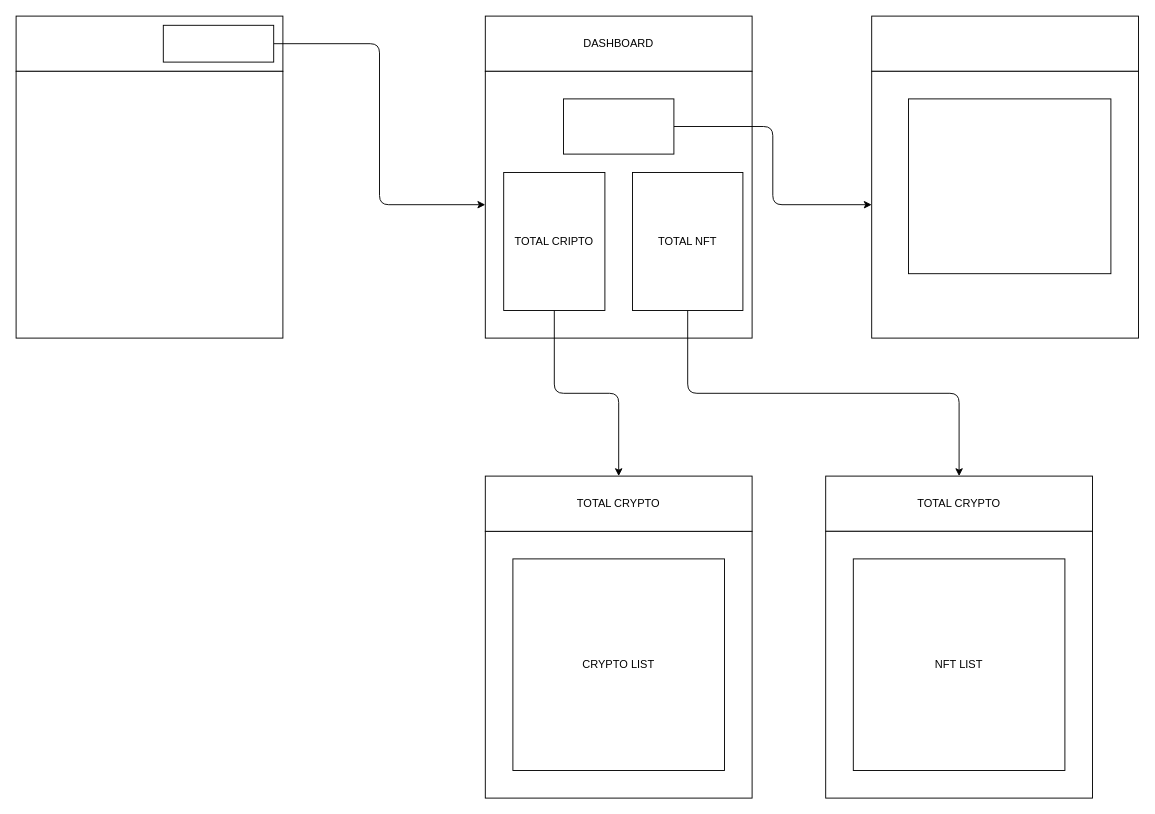
Image size: 1155x814. Some labels were removed from this diagram. Each missing label, with the box of its shape:
DATA ANALYSIS OF WHOLE WALLET: (908, 98, 1111, 274)
HOMEPAGE funzioni del sito: (15, 70, 283, 338)
Login: (162, 24, 274, 62)
TOTAL OWININGS: (563, 98, 674, 154)
